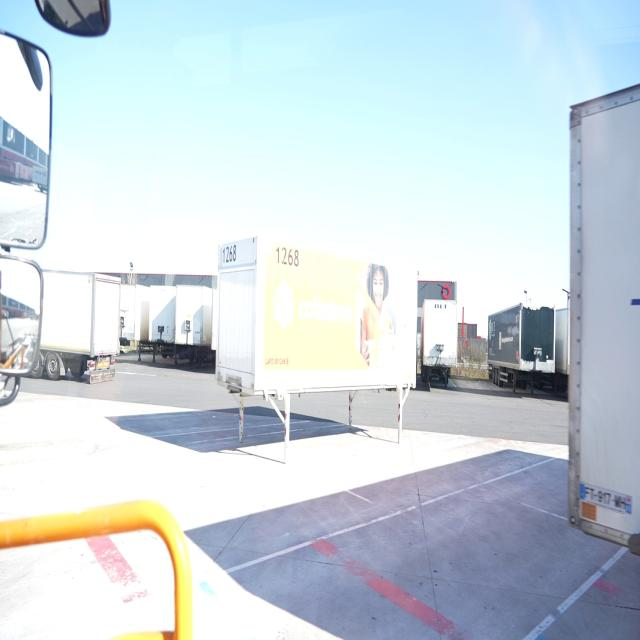Code: (273, 237, 304, 273), (219, 238, 241, 268)
